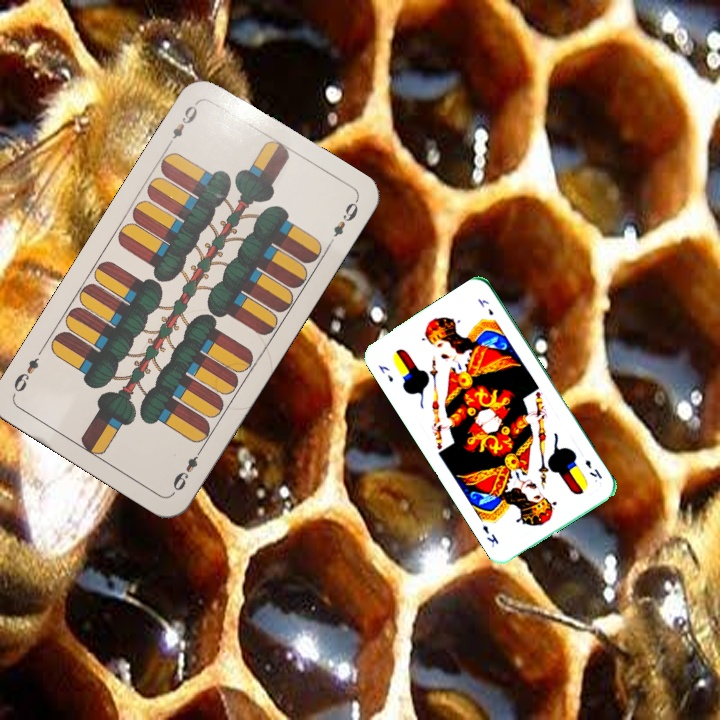E9: (168, 443, 206, 496), (164, 97, 201, 150)
EK: (581, 455, 604, 481), (374, 361, 396, 385)
